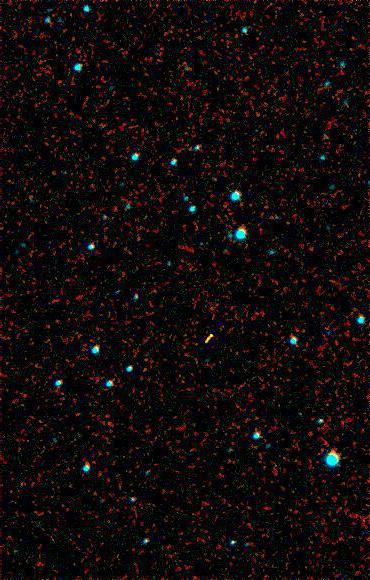star: (195, 325, 225, 355)
